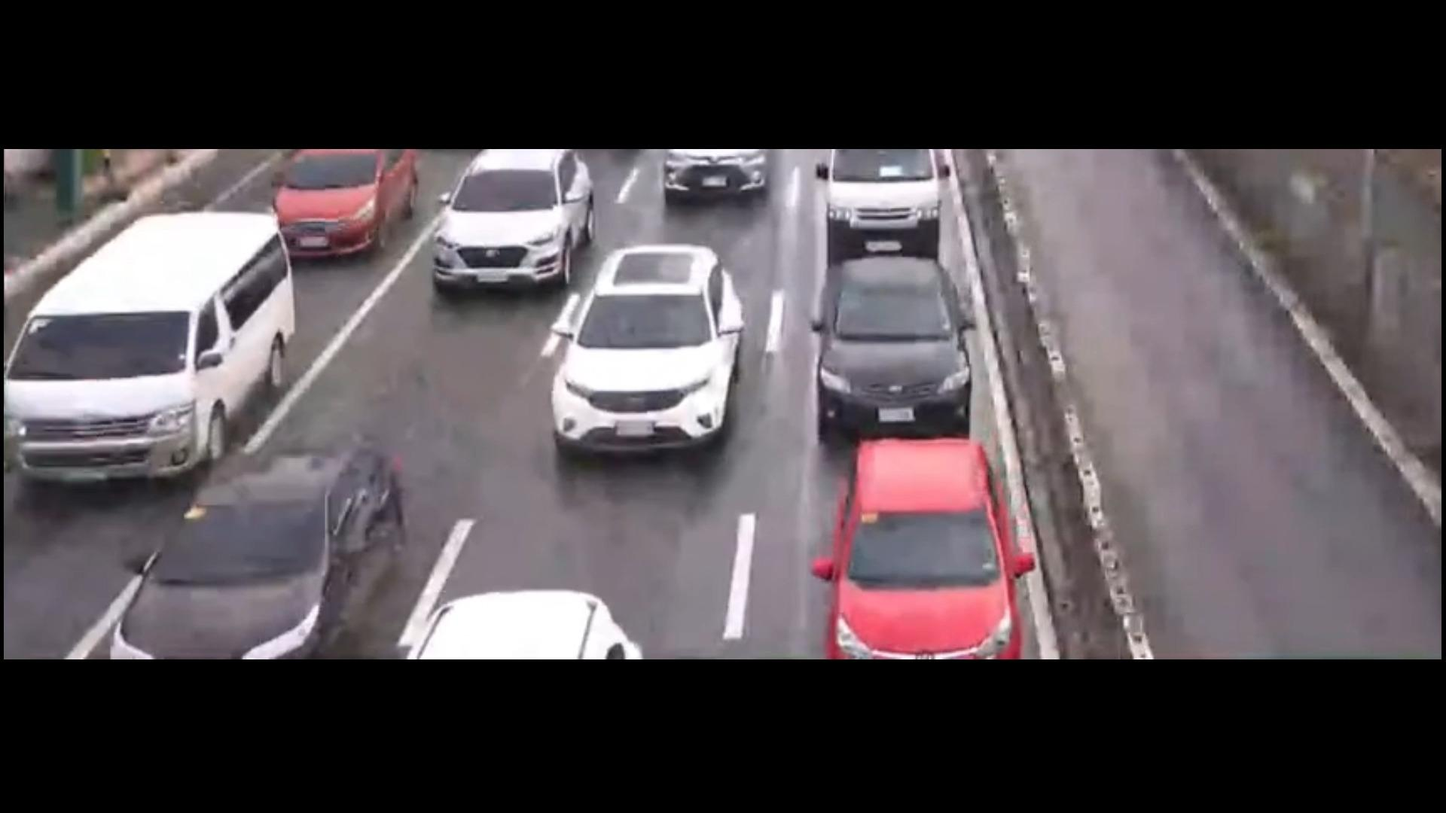SUV: (516, 236, 773, 465), (435, 153, 602, 296)
Sedan: (84, 401, 443, 659), (806, 397, 1060, 663), (807, 222, 981, 453), (259, 143, 420, 269)
Van: (0, 211, 315, 510)
